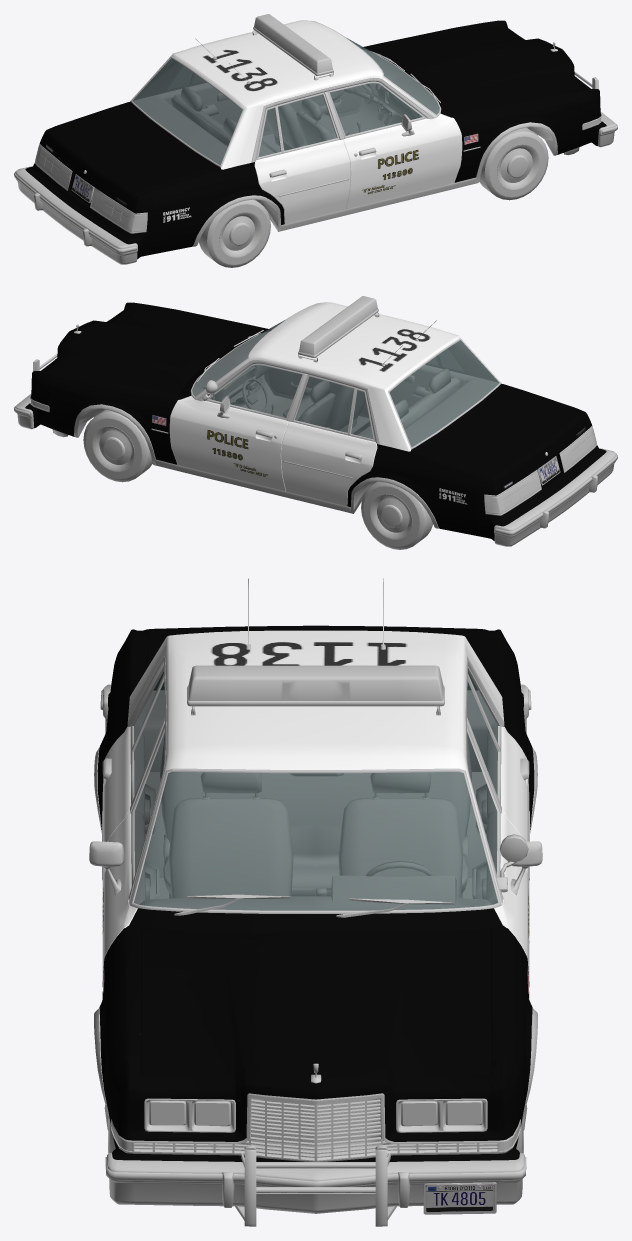
Rendered from Negotiator80cop.fbx.
The picture shows the model from 3 angles, top to bottom: view 1: azimuth 30°, elevation 25°; view 2: azimuth 150°, elevation 25°; view 3: azimuth 270°, elevation 25°; orthographic projection. The views are drawn at different scales.
Visible parts, largest first — view 1: Negotiator80cop_Body, Negotiator80cop_Interior, Negotiator80cop_Hood, Negotiator80cop_bottom, Negotiator80cop_Trunk_door, Negotiator80cop_Bodyglass, Negotiator80cop_Glass_back, Negotiator80cop_Wheel_FR, Negotiator80cop_Wheel_RR, Negotiator80cop_Bumper_Rear, Negotiator80cop_Lightbar_glass, Negotiator80cop_Windshield (+3 smaller); view 2: Negotiator80cop_Body, Negotiator80cop_Interior, Negotiator80cop_Hood, Negotiator80cop_bottom, Negotiator80cop_Trunk_door, Negotiator80cop_Bodyglass, Negotiator80cop_Glass_back, Negotiator80cop_Wheel_FL, Negotiator80cop_Wheel_RL, Negotiator80cop_Bumper_Rear, Negotiator80cop_Lightbar_glass, Negotiator80cop_Windshield (+3 smaller); view 3: Negotiator80cop_Body, Negotiator80cop_Interior, Negotiator80cop_Hood, Negotiator80cop_Windshield, Negotiator80cop_bottom, Negotiator80cop_Bumper_Front, Negotiator80cop_Lightbar_glass, Negotiator80cop_Bodyglass, Negotiator80cop_Lightbar, Negotiator80cop_Headlights, Negotiator80cop_Trunk_door, Negotiator80cop_Numberplate_front.
Part boxes in pixels (left/top/right/bottom): Negotiator80cop_Body: left=25, top=20, right=606, bottom=258; Negotiator80cop_Interior: left=133, top=49, right=439, bottom=164; Negotiator80cop_Hood: left=367, top=26, right=583, bottom=113; Negotiator80cop_bottom: left=34, top=20, right=601, bottom=246; Negotiator80cop_Trunk_door: left=44, top=107, right=210, bottom=209; Negotiator80cop_Bodyglass: left=168, top=67, right=421, bottom=156; Negotiator80cop_Glass_back: left=132, top=58, right=242, bottom=164; Negotiator80cop_Wheel_FR: left=479, top=127, right=548, bottom=200; Negotiator80cop_Wheel_RR: left=199, top=199, right=270, bottom=267; Negotiator80cop_Bumper_Rear: left=14, top=166, right=137, bottom=264; Negotiator80cop_Lightbar_glass: left=254, top=14, right=332, bottom=73; Negotiator80cop_Windshield: left=347, top=38, right=439, bottom=114; Negotiator80cop_Body: left=25, top=302, right=606, bottom=540; Negotiator80cop_Interior: left=192, top=331, right=498, bottom=446; Negotiator80cop_Hood: left=48, top=308, right=264, bottom=395; Negotiator80cop_bottom: left=30, top=302, right=597, bottom=528; Negotiator80cop_Trunk_door: left=421, top=389, right=587, bottom=491; Negotiator80cop_Bodyglass: left=209, top=349, right=463, bottom=438; Negotiator80cop_Glass_back: left=389, top=340, right=499, bottom=446; Negotiator80cop_Wheel_FL: left=83, top=409, right=152, bottom=482; Negotiator80cop_Wheel_RL: left=361, top=481, right=432, bottom=549; Negotiator80cop_Bumper_Rear: left=494, top=448, right=617, bottom=546; Negotiator80cop_Lightbar_glass: left=299, top=296, right=377, bottom=355; Negotiator80cop_Windshield: left=192, top=320, right=284, bottom=396; Negotiator80cop_Body: left=97, top=629, right=534, bottom=1162; Negotiator80cop_Interior: left=134, top=690, right=497, bottom=910; Negotiator80cop_Hood: left=140, top=928, right=491, bottom=1075; Negotiator80cop_Windshield: left=134, top=772, right=497, bottom=910; Negotiator80cop_bottom: left=89, top=578, right=542, bottom=1161; Negotiator80cop_Bumper_Front: left=105, top=1145, right=526, bottom=1226; Negotiator80cop_Lightbar_glass: left=188, top=665, right=443, bottom=700; Negotiator80cop_Bodyglass: left=134, top=672, right=497, bottom=873; Negotiator80cop_Lightbar: left=187, top=665, right=444, bottom=715; Negotiator80cop_Headlights: left=149, top=1100, right=482, bottom=1126; Negotiator80cop_Trunk_door: left=146, top=625, right=485, bottom=669; Negotiator80cop_Numberplate_front: left=425, top=1184, right=494, bottom=1212.
Bounding box in the file's own units: 4980 × 1589 × 1875.
